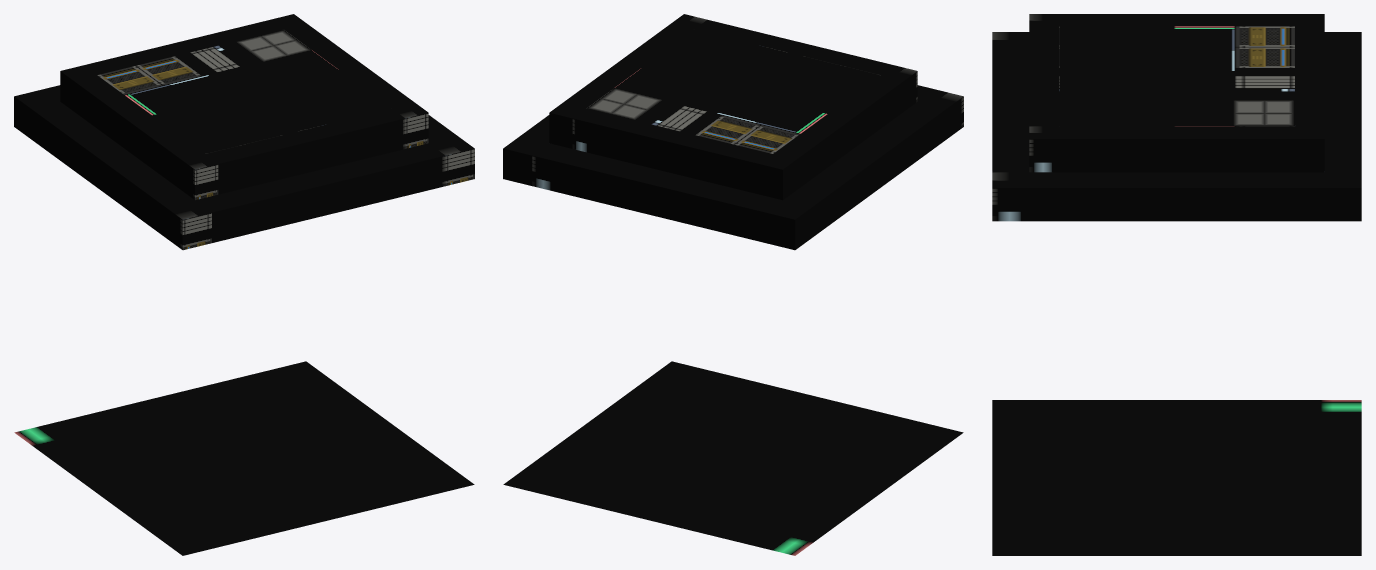
The model's file is FloorRoof.obj.
3 renders of one model, left to right at view 1: azimuth 30°, elevation 25°; view 2: azimuth 150°, elevation 25°; view 3: azimuth 270°, elevation 25°, orthographic. The views are drawn at different scales.
Visible parts, largest first — view 1: Roof, Floor; view 2: Roof, Floor; view 3: Roof, Floor.
Part boxes in pixels (x1,y1,x2,y2): Roof: (14,14,474,250); Floor: (14,361,474,555); Roof: (503,14,963,250); Floor: (503,361,963,555); Roof: (992,14,1361,221); Floor: (992,400,1361,555).
Size of the model in its own units: 2 by 2.4 by 2.
Materials: 1 (1 with a texture image).
